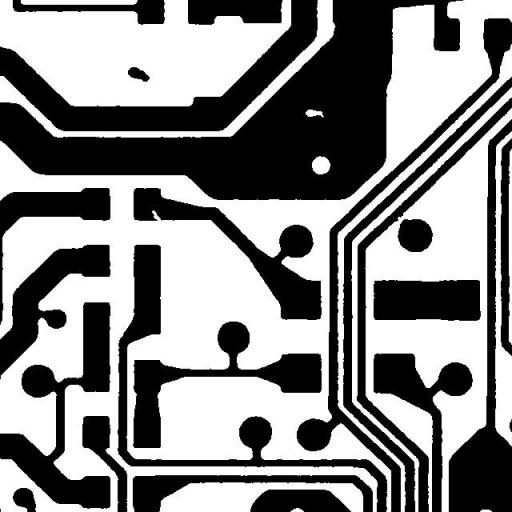copper: (120, 59, 157, 89)
mousebite: (144, 202, 169, 232)
open: (388, 208, 414, 232)
pin-hole: (298, 102, 331, 124)
